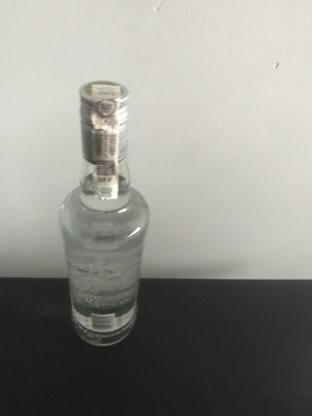nakretka: (77, 78, 131, 166)
